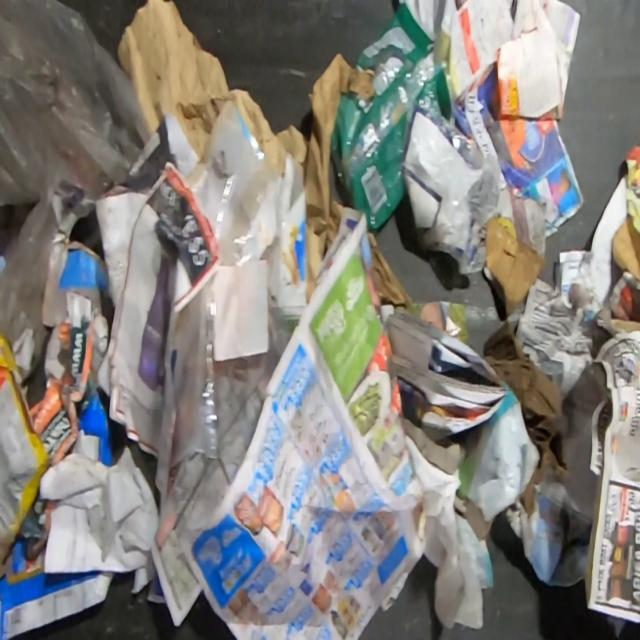cardboard: (480, 320, 568, 512), (0, 336, 50, 574), (0, 539, 116, 639), (486, 216, 551, 320), (57, 237, 115, 338), (79, 390, 138, 468), (610, 214, 640, 325)
soft_plastic: (0, 0, 149, 368), (167, 102, 295, 494), (330, 0, 456, 235), (400, 97, 508, 276)
